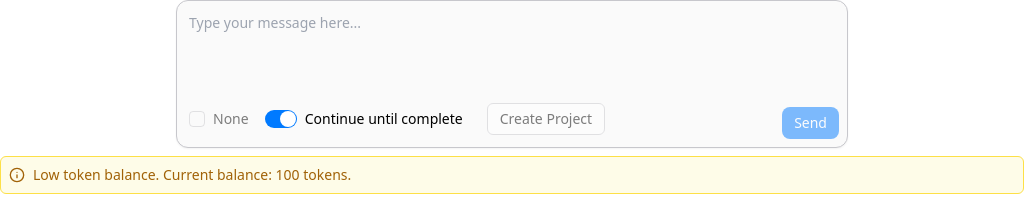
ChatInput Component › Affordability UI and Button State › shows low balance warning when canAffordNext is true but lowBalanceWarning is true
Type "test message" into the text box with test id "chat-input-textarea" at coordinates (489, 58), box [189,13,789,103]
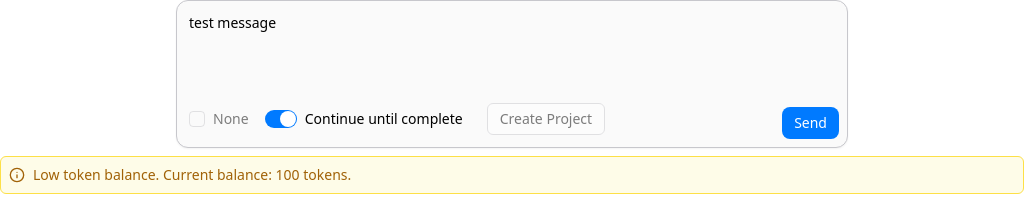
expect the element with test id "low-balance-alert" is shown: met, box [0,156,1023,194]
expect the button with test id "send-message-button" is enabled: met, box [782,107,839,139]
